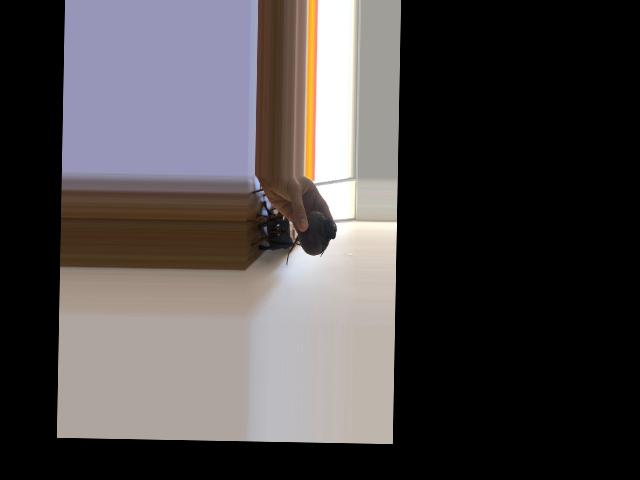beet: (286, 210, 337, 267)
